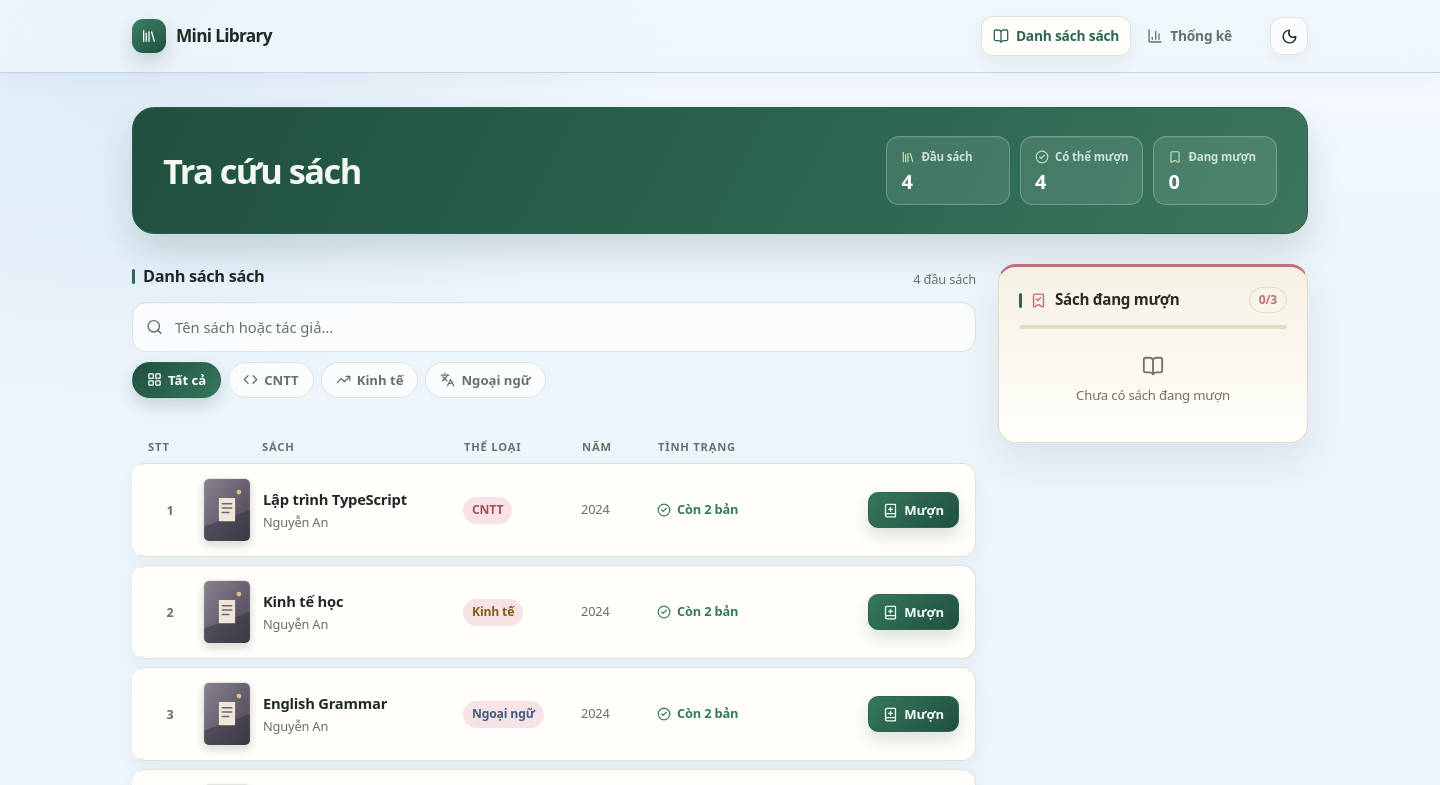
Scenario: borrowing, limit warning, returning and lazy statistics share the same state
Click the button "Mượn" in the row of "Lập trình TypeScript": (914, 510) 868,492 -> 959,528
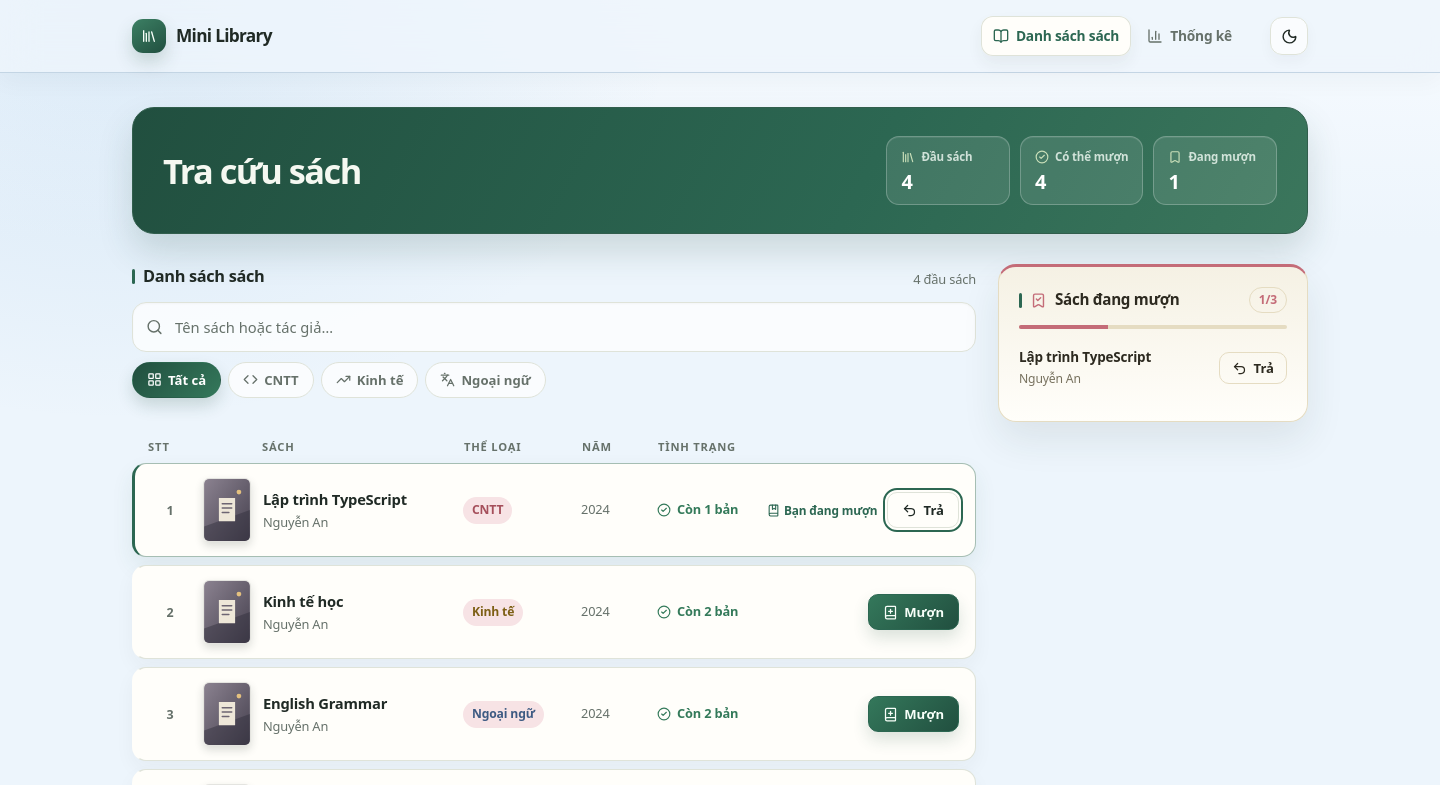
Click the button "Mượn" in the row of "Kinh tế học": (914, 612) 868,594 -> 959,630
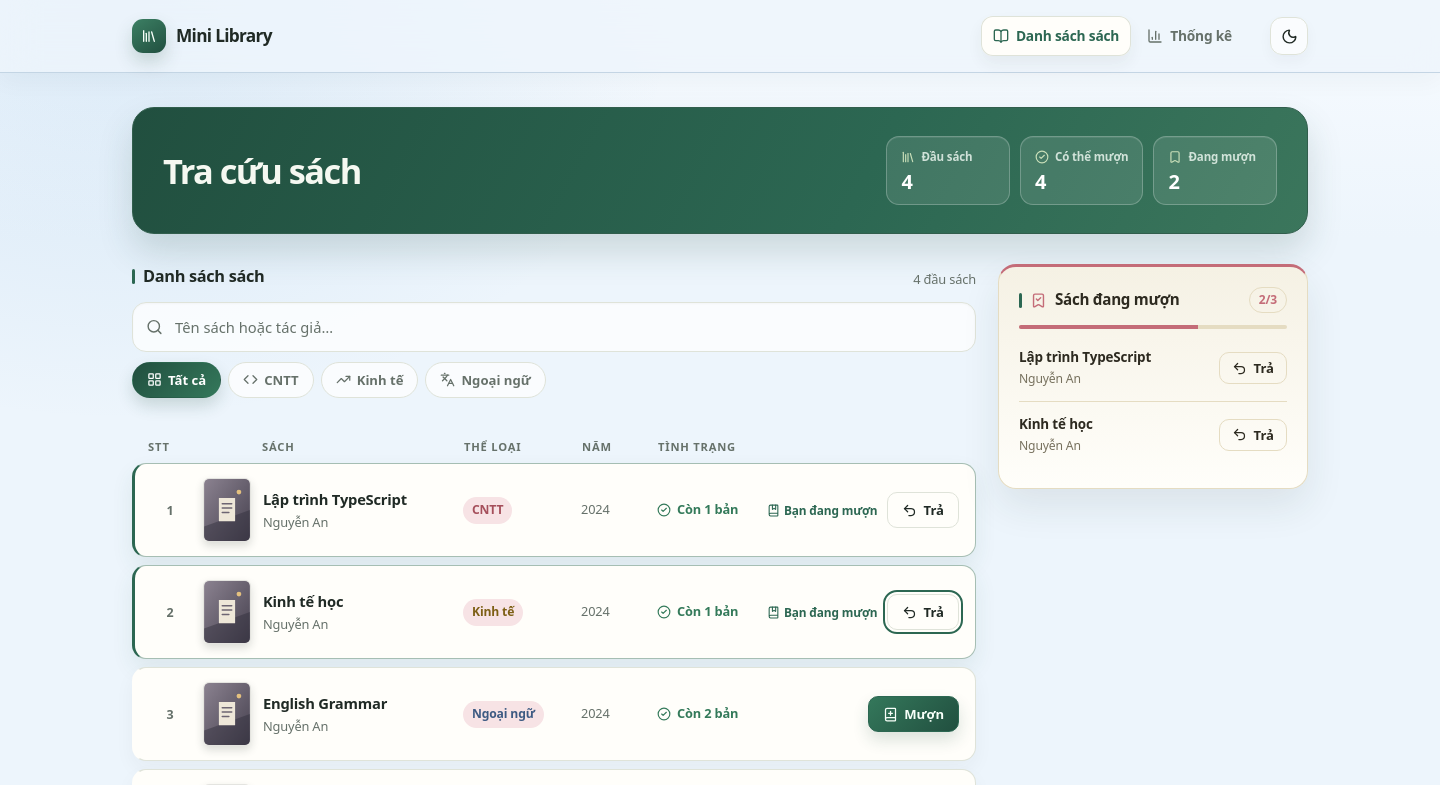
Click the button "Mượn" in the row of "English Grammar": (914, 714) 868,696 -> 959,732
(page scrolled)
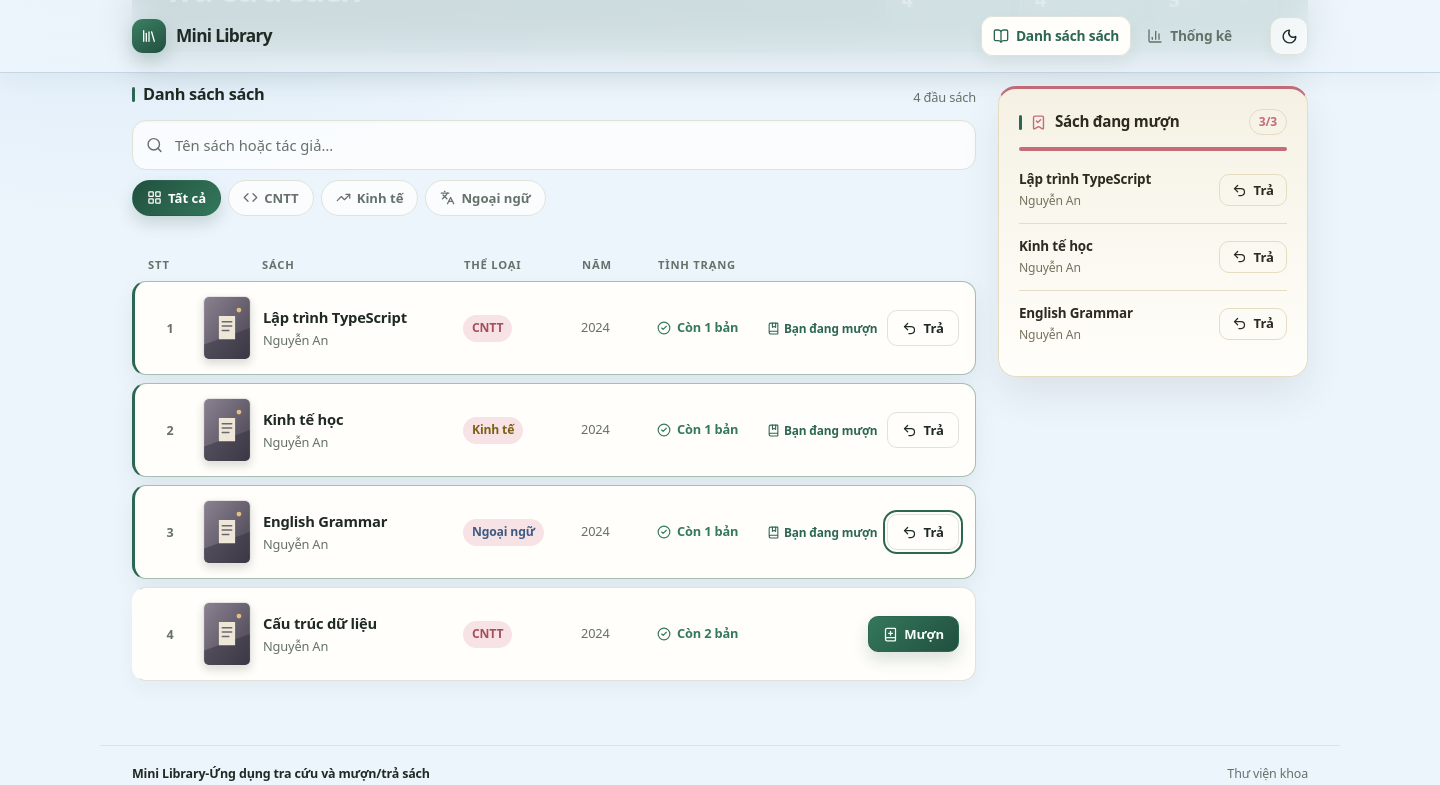
Click the button "Mượn": (914, 634) 868,616 -> 959,652
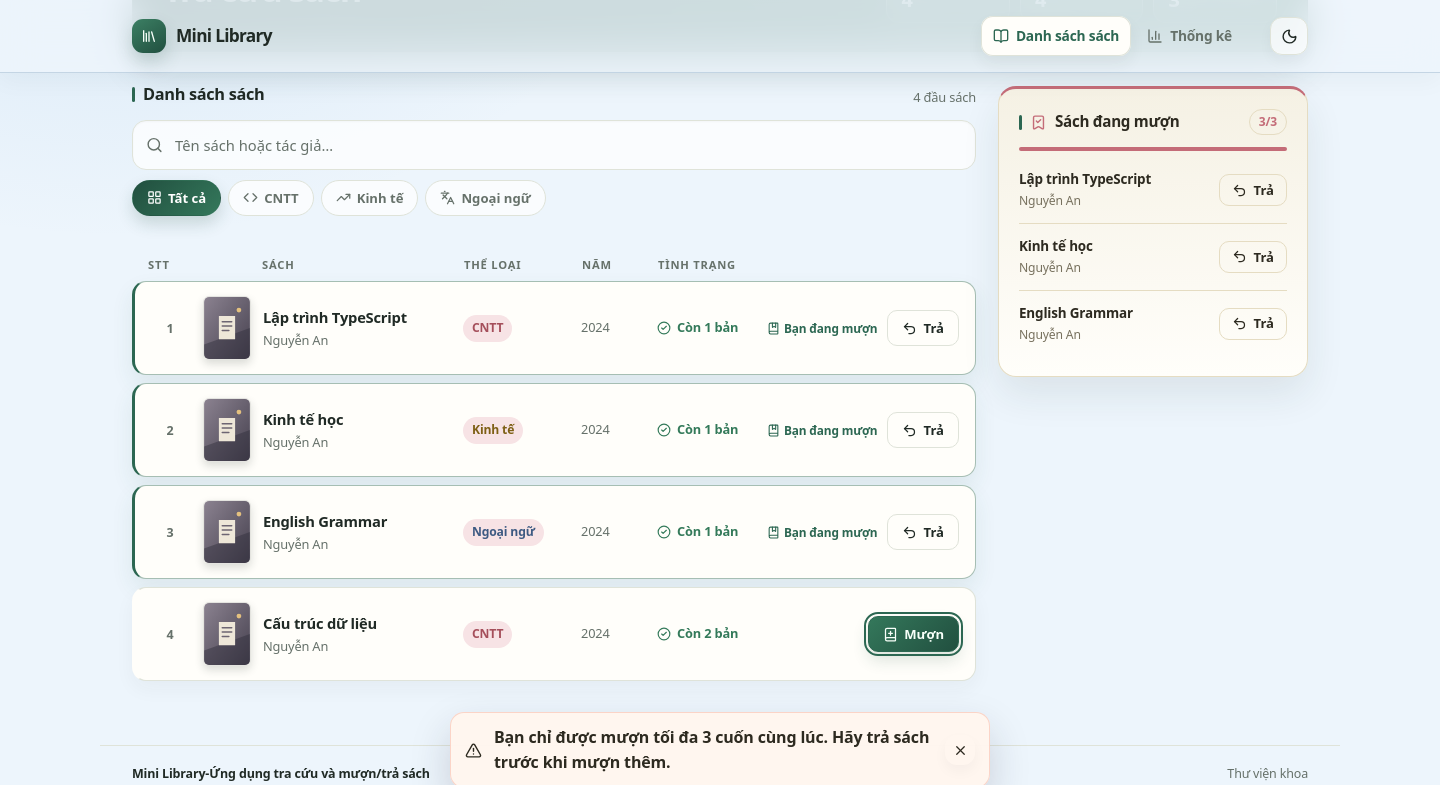
Now the message shows "tối đa 3", box 494,726 -> 929,773
Click the 1st button "Trả": (1253, 190) 1220,174 -> 1287,206
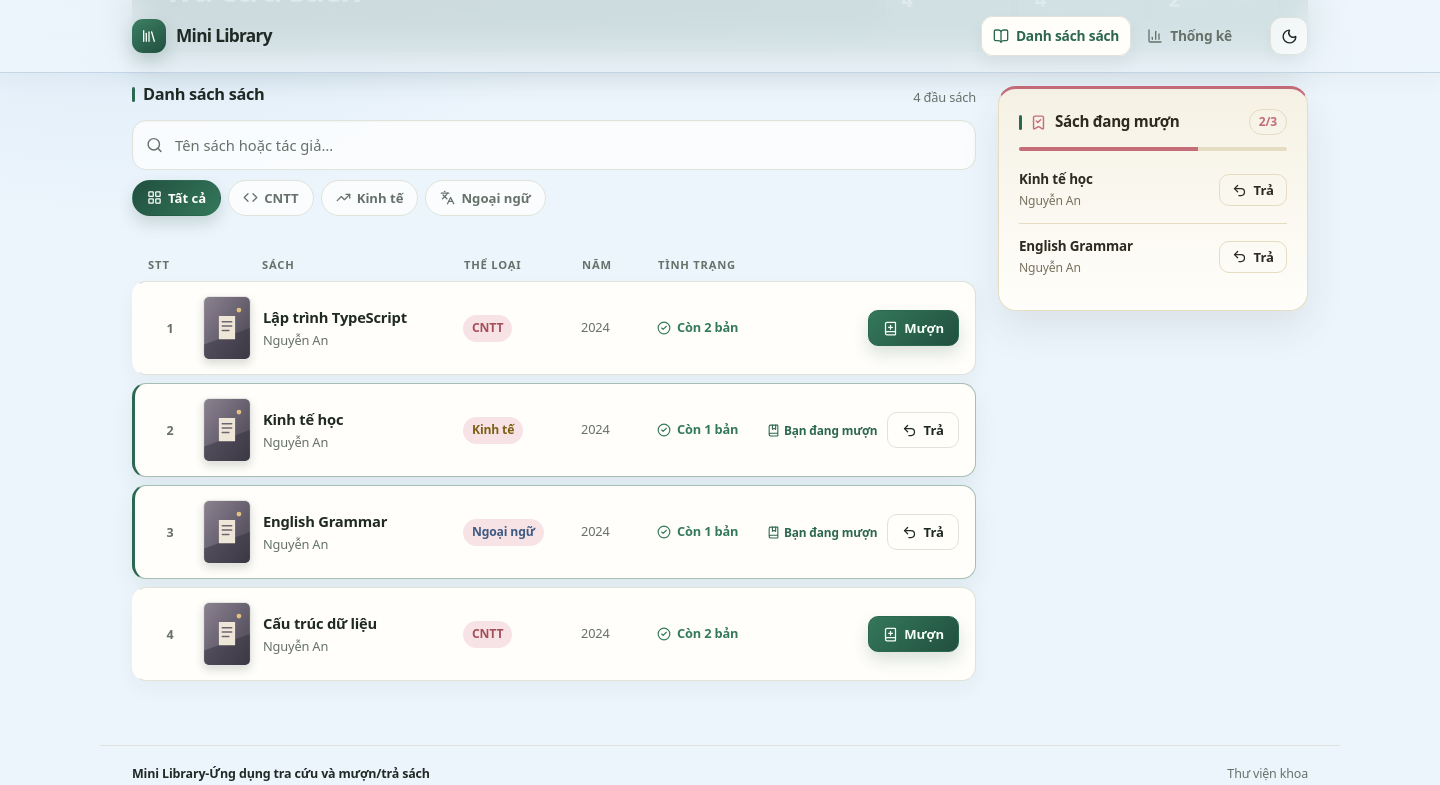
Click the link "Thống kê": (1190, 36) 1147,26 -> 1232,45
(page scrolled)
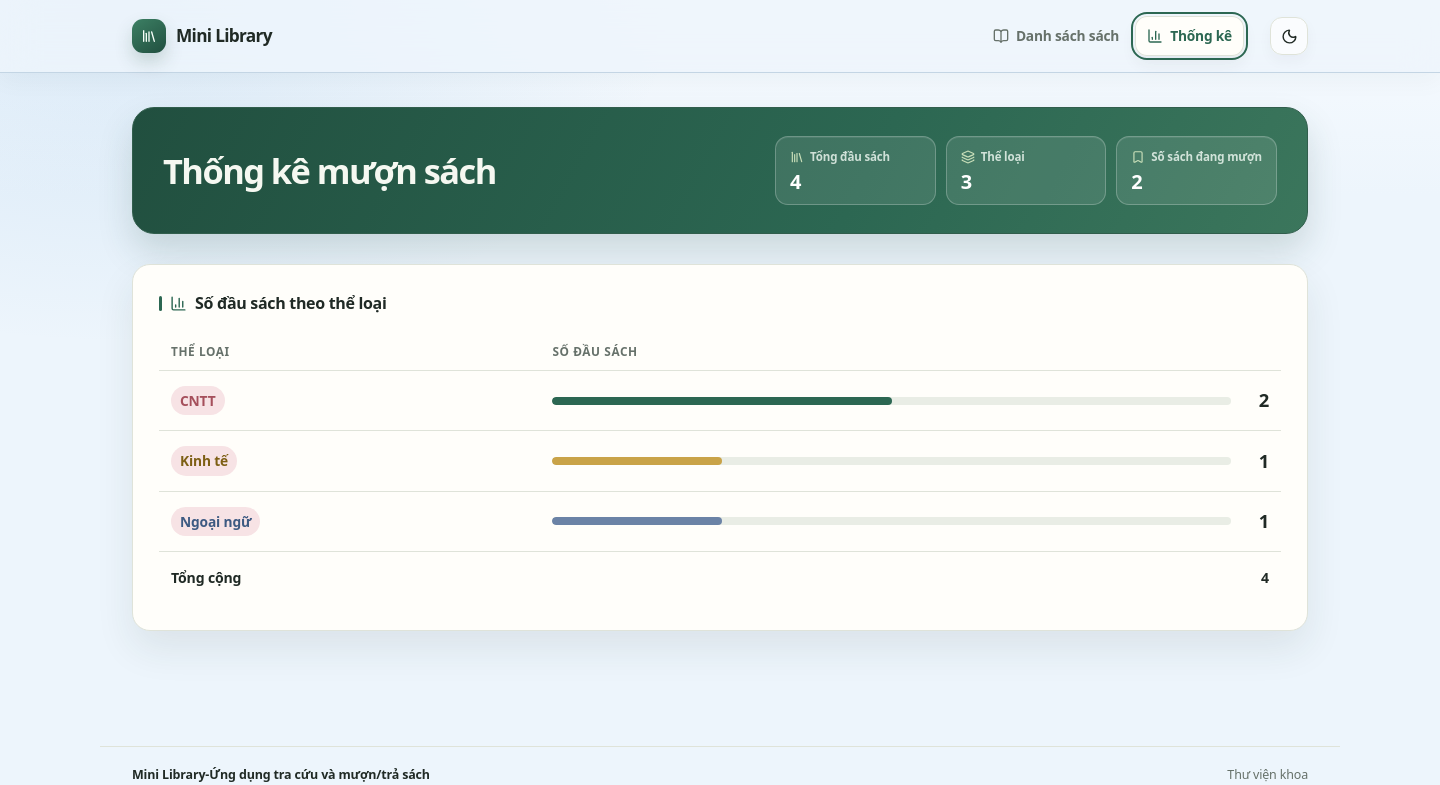
Expected: the row "CNTT 2" is shown, 159,371 -> 1281,431
Now the text named "Số sách đang mượn" reads "2", box 1131,168 -> 1143,195
Now the heading "Thống kê mượn sách" is shown, box 163,144 -> 496,197
